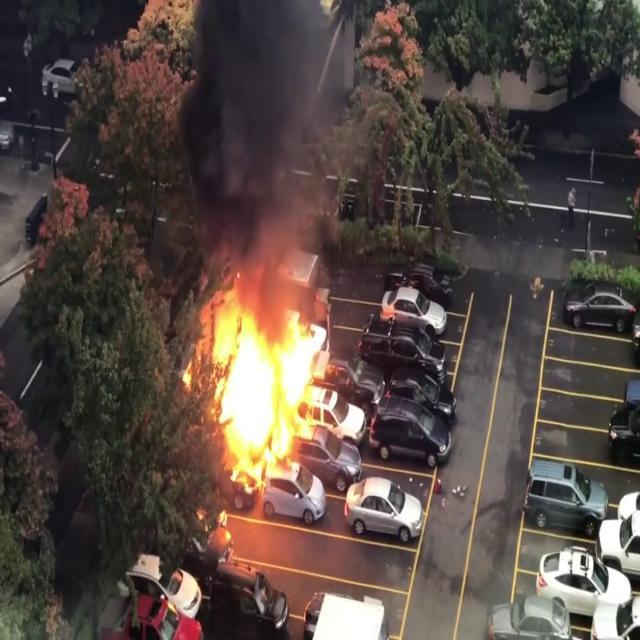Fire: (194, 289, 342, 489)
Smoke: (169, 0, 351, 288)
